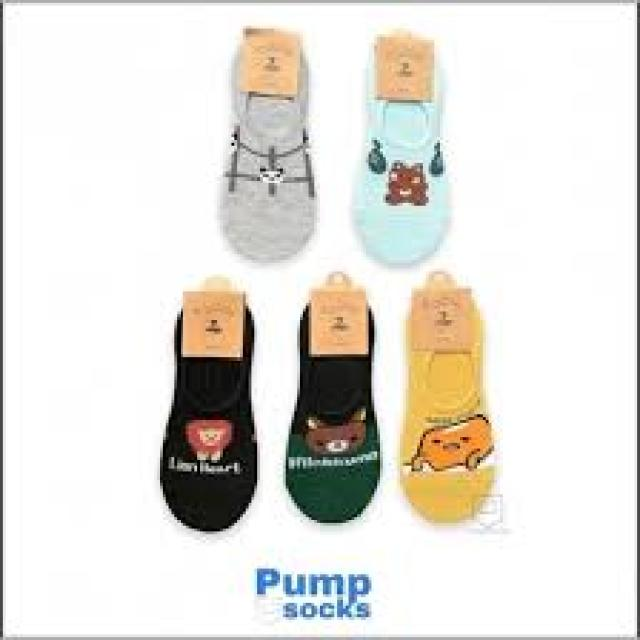sock: (157, 274, 257, 532), (397, 268, 494, 523), (283, 268, 380, 523)
